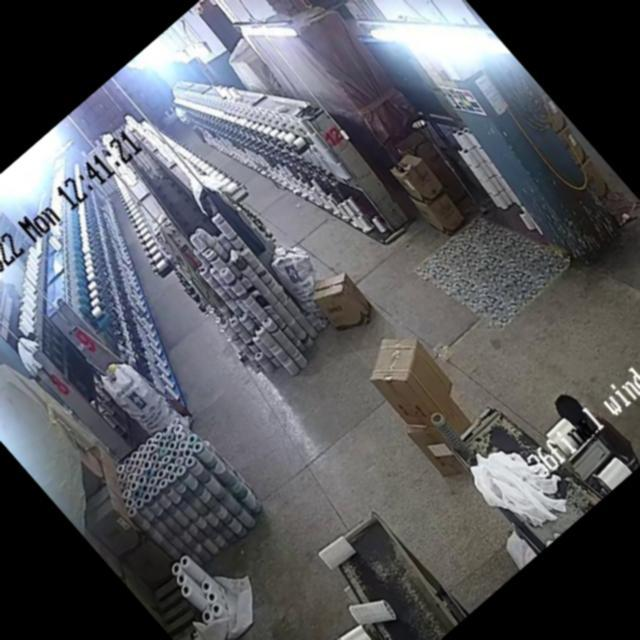person: (544, 374, 622, 458)
